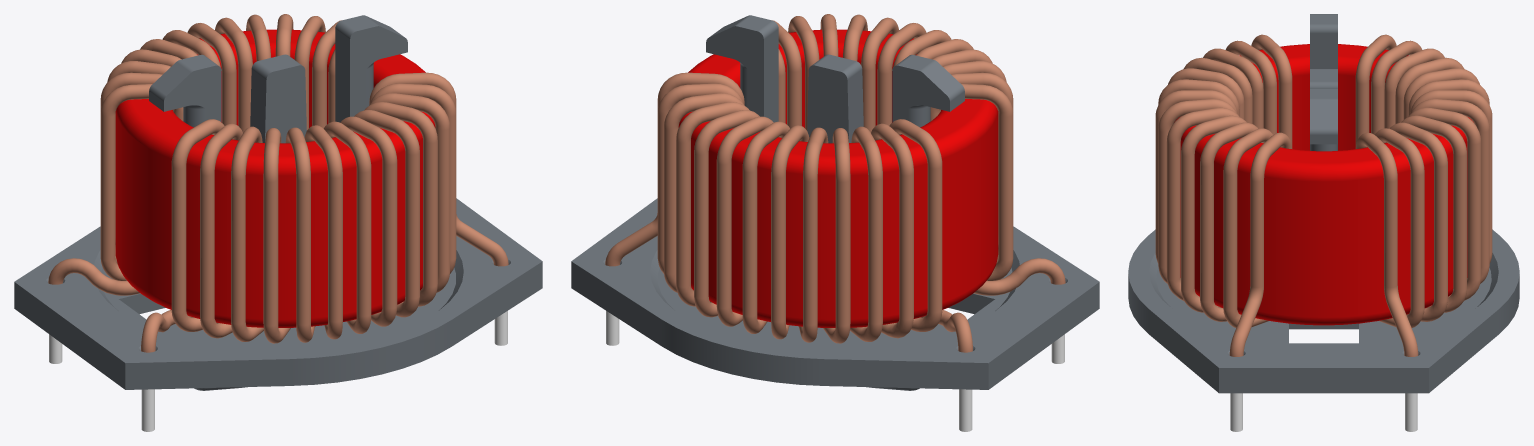
The model's file is Unnamed1-Assem1.gltf.
3 views of the same model, side by side, from view 1: azimuth 30°, elevation 25°; view 2: azimuth 150°, elevation 25°; view 3: azimuth 270°, elevation 25° (orthographic). The views are drawn at different scales.
Visible parts, largest first — view 1: base, core002, core, core001; view 2: base, core001, core, core002; view 3: core, base, core001, core002.
Boxes of the visible parts, bbox=[...] form: base: bbox=[14, 15, 542, 390]; core002: bbox=[141, 72, 508, 431]; core: bbox=[115, 29, 435, 327]; core001: bbox=[48, 14, 341, 363]; base: bbox=[571, 15, 1099, 390]; core001: bbox=[605, 72, 972, 431]; core: bbox=[678, 29, 998, 327]; core002: bbox=[772, 14, 1065, 363]; core: bbox=[1174, 44, 1473, 325]; base: bbox=[1128, 14, 1519, 393]; core001: bbox=[1355, 34, 1492, 431]; core002: bbox=[1155, 34, 1292, 431].
Size of the model in its own units: 0.0325 by 0.023 by 0.028.
